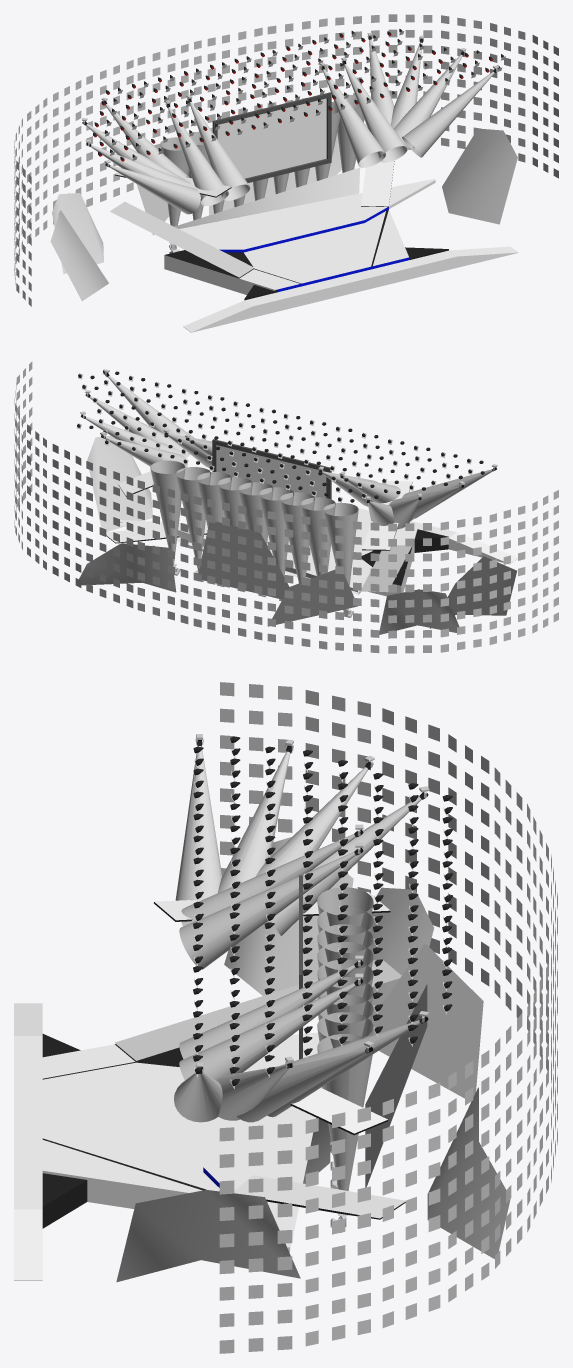
The model's file is stage.fbx.
3 views of the same model, one above another, from view 1: azimuth 30°, elevation 25°; view 2: azimuth 150°, elevation 25°; view 3: azimuth 270°, elevation 25° (orthographic). The views are drawn at different scales.
Parts seen in each view (by area): view 1: Group_001, Group_004, Group_017, Group_012, Group_006, Group_003, Group_016, Group_014, Group_013, Group_178, Group_158, Group_162 (+13 smaller); view 2: Group_001, Group_014, Group_017, Group_012, Group_004, Component#85_015, Component#85_017, Component#85_007, Component#85_003, Component#85_011, Component#85_001, Group_006 (+19 smaller); view 3: Group_001, Group_004, Group_017, Group_014, Group_003, Group_006, Group_138, Group_162, Group_170, Group_013, Group_174, Group_009 (+18 smaller).
Part boxes in pixels (x1=…): Group_001: x1=14, y1=14, x2=558, y2=306; Group_004: x1=164, y1=209, x2=448, y2=300; Group_017: x1=52, y1=128, x2=517, y2=274; Group_012: x1=212, y1=92, x2=331, y2=182; Group_006: x1=179, y1=179, x2=435, y2=252; Group_003: x1=183, y1=246, x2=518, y2=332; Group_016: x1=174, y1=167, x2=360, y2=228; Group_014: x1=50, y1=132, x2=517, y2=301; Group_013: x1=110, y1=201, x2=254, y2=277; Group_178: x1=402, y1=71, x2=494, y2=157; Group_158: x1=322, y1=69, x2=385, y2=167; Group_162: x1=344, y1=64, x2=407, y2=162; Group_001: x1=14, y1=361, x2=558, y2=653; Group_014: x1=79, y1=435, x2=516, y2=634; Group_017: x1=87, y1=436, x2=516, y2=633; Group_012: x1=212, y1=439, x2=331, y2=499; Group_004: x1=180, y1=513, x2=448, y2=596; Component#85_015: x1=150, y1=460, x2=185, y2=565; Component#85_017: x1=323, y1=503, x2=358, y2=586; Component#85_007: x1=176, y1=467, x2=211, y2=571; Component#85_003: x1=279, y1=492, x2=314, y2=583; Component#85_011: x1=259, y1=487, x2=294, y2=576; Component#85_001: x1=300, y1=497, x2=335, y2=576; Group_006: x1=120, y1=520, x2=372, y2=595; Group_001: x1=219, y1=682, x2=557, y2=1353; Group_004: x1=42, y1=1034, x2=219, y2=1228; Group_017: x1=208, y1=874, x2=509, y2=1278; Group_014: x1=116, y1=837, x2=510, y2=1282; Group_003: x1=14, y1=1003, x2=42, y2=1280; Group_006: x1=203, y1=1032, x2=322, y2=1252; Group_138: x1=179, y1=852, x2=355, y2=969; Group_162: x1=179, y1=983, x2=355, y2=1080; Group_170: x1=175, y1=746, x2=222, y2=900; Group_013: x1=115, y1=959, x2=401, y2=1060; Group_174: x1=218, y1=751, x2=290, y2=892; Group_009: x1=234, y1=1175, x2=405, y2=1219.
Bounding box in the file's own units: 40343 × 10906 × 20828.
